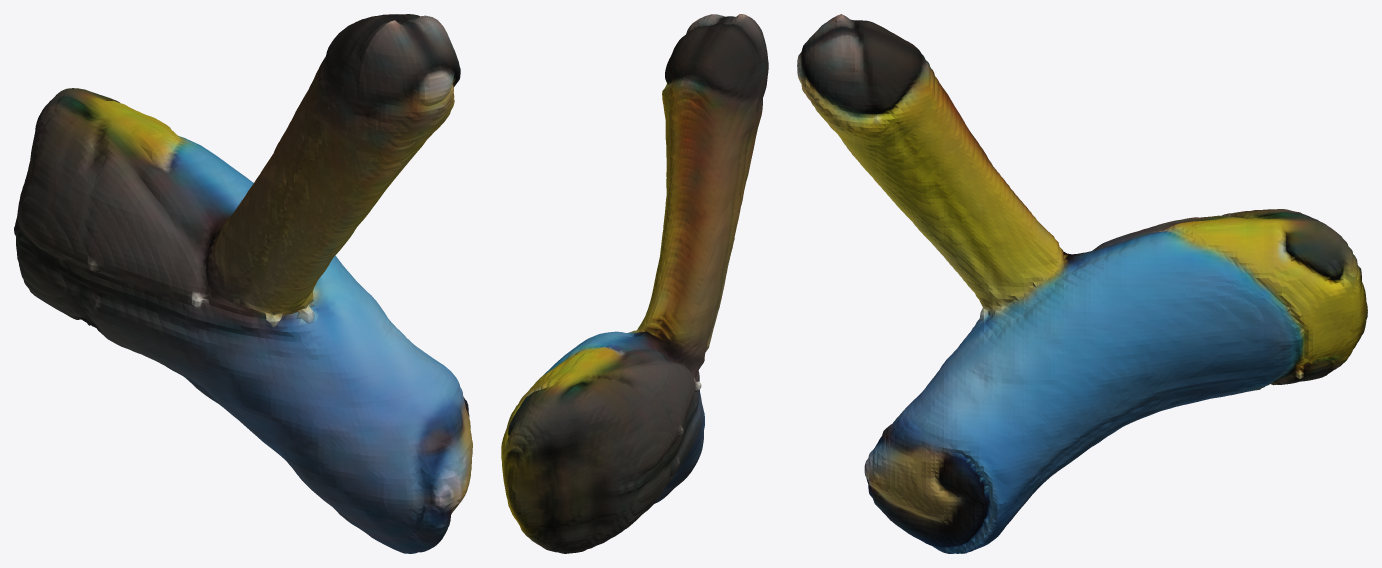
3 views of the same model, side by side, from view 1: azimuth 30°, elevation 25°; view 2: azimuth 150°, elevation 25°; view 3: azimuth 270°, elevation 25° (orthographic). The views are drawn at different scales.
Bounding box in the file's own units: 0.4127 × 0.8441 × 0.8754.
